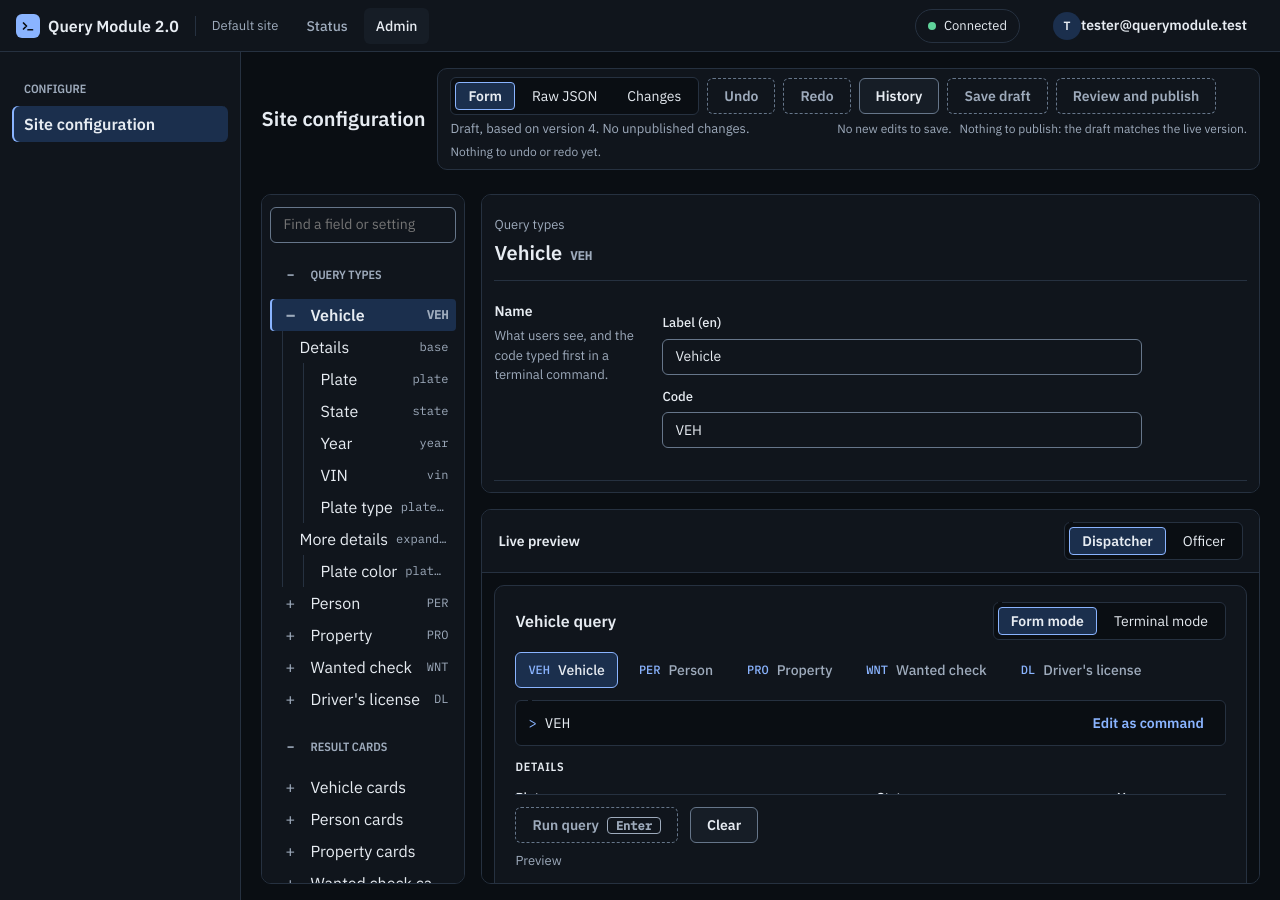
Test case: the history drawer › Escape closes it and focus returns to the History button
Check: the tab "Form" is shown, box x1=456 y1=82 x2=515 y2=110
Click the button "History" at (899, 96), box x1=859 y1=78 x2=939 y2=114
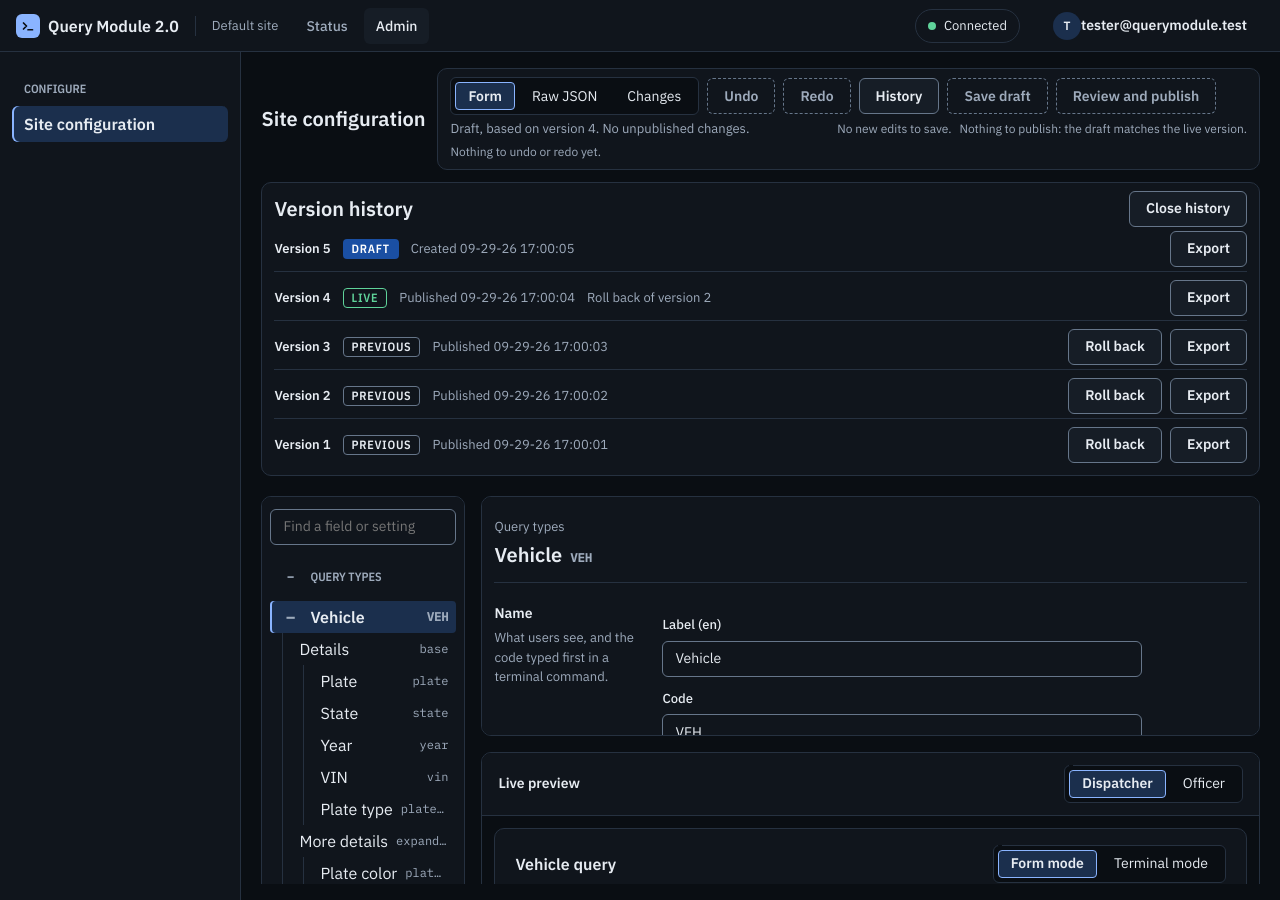
Check: the text "Version 5" is shown, box x1=274 y1=239 x2=330 y2=258
Press Escape
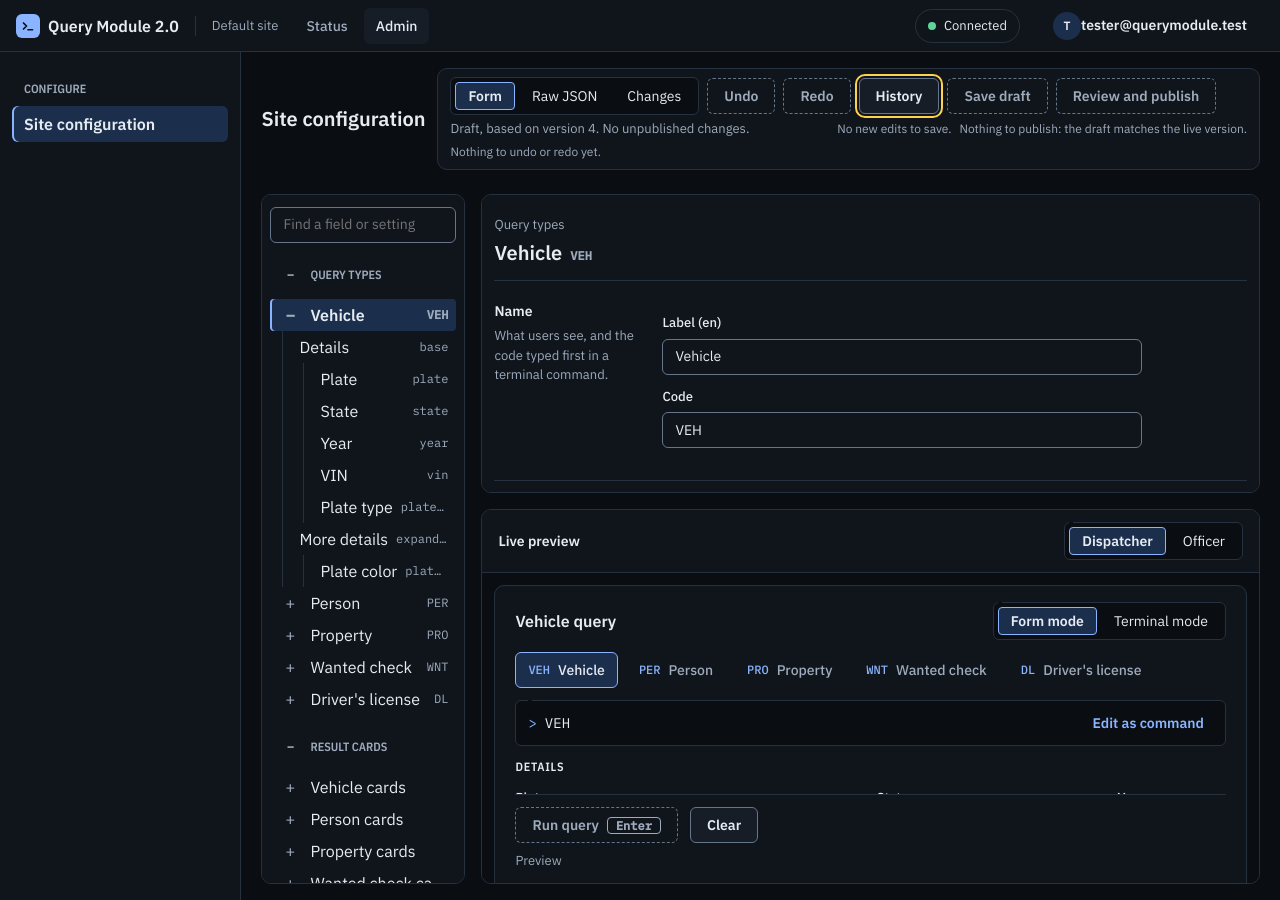
Check: the heading "Version history" is gone
